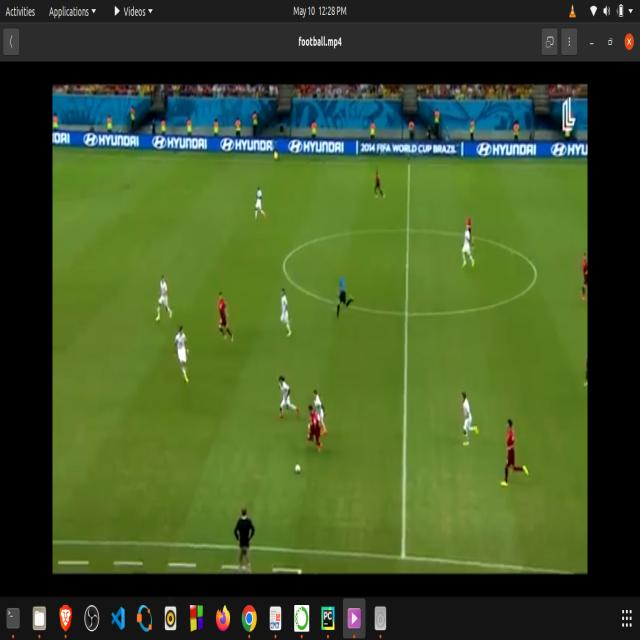Ball: (294, 458, 303, 483)
Refree: (331, 273, 356, 316)
football-players: (499, 414, 529, 492), (172, 325, 198, 388), (214, 285, 238, 350), (458, 384, 481, 450), (308, 386, 328, 458), (276, 373, 300, 419), (276, 288, 296, 343), (156, 270, 175, 324), (372, 165, 387, 205), (461, 226, 473, 273), (255, 184, 268, 224), (466, 213, 478, 250), (581, 250, 588, 301), (584, 354, 588, 388)
